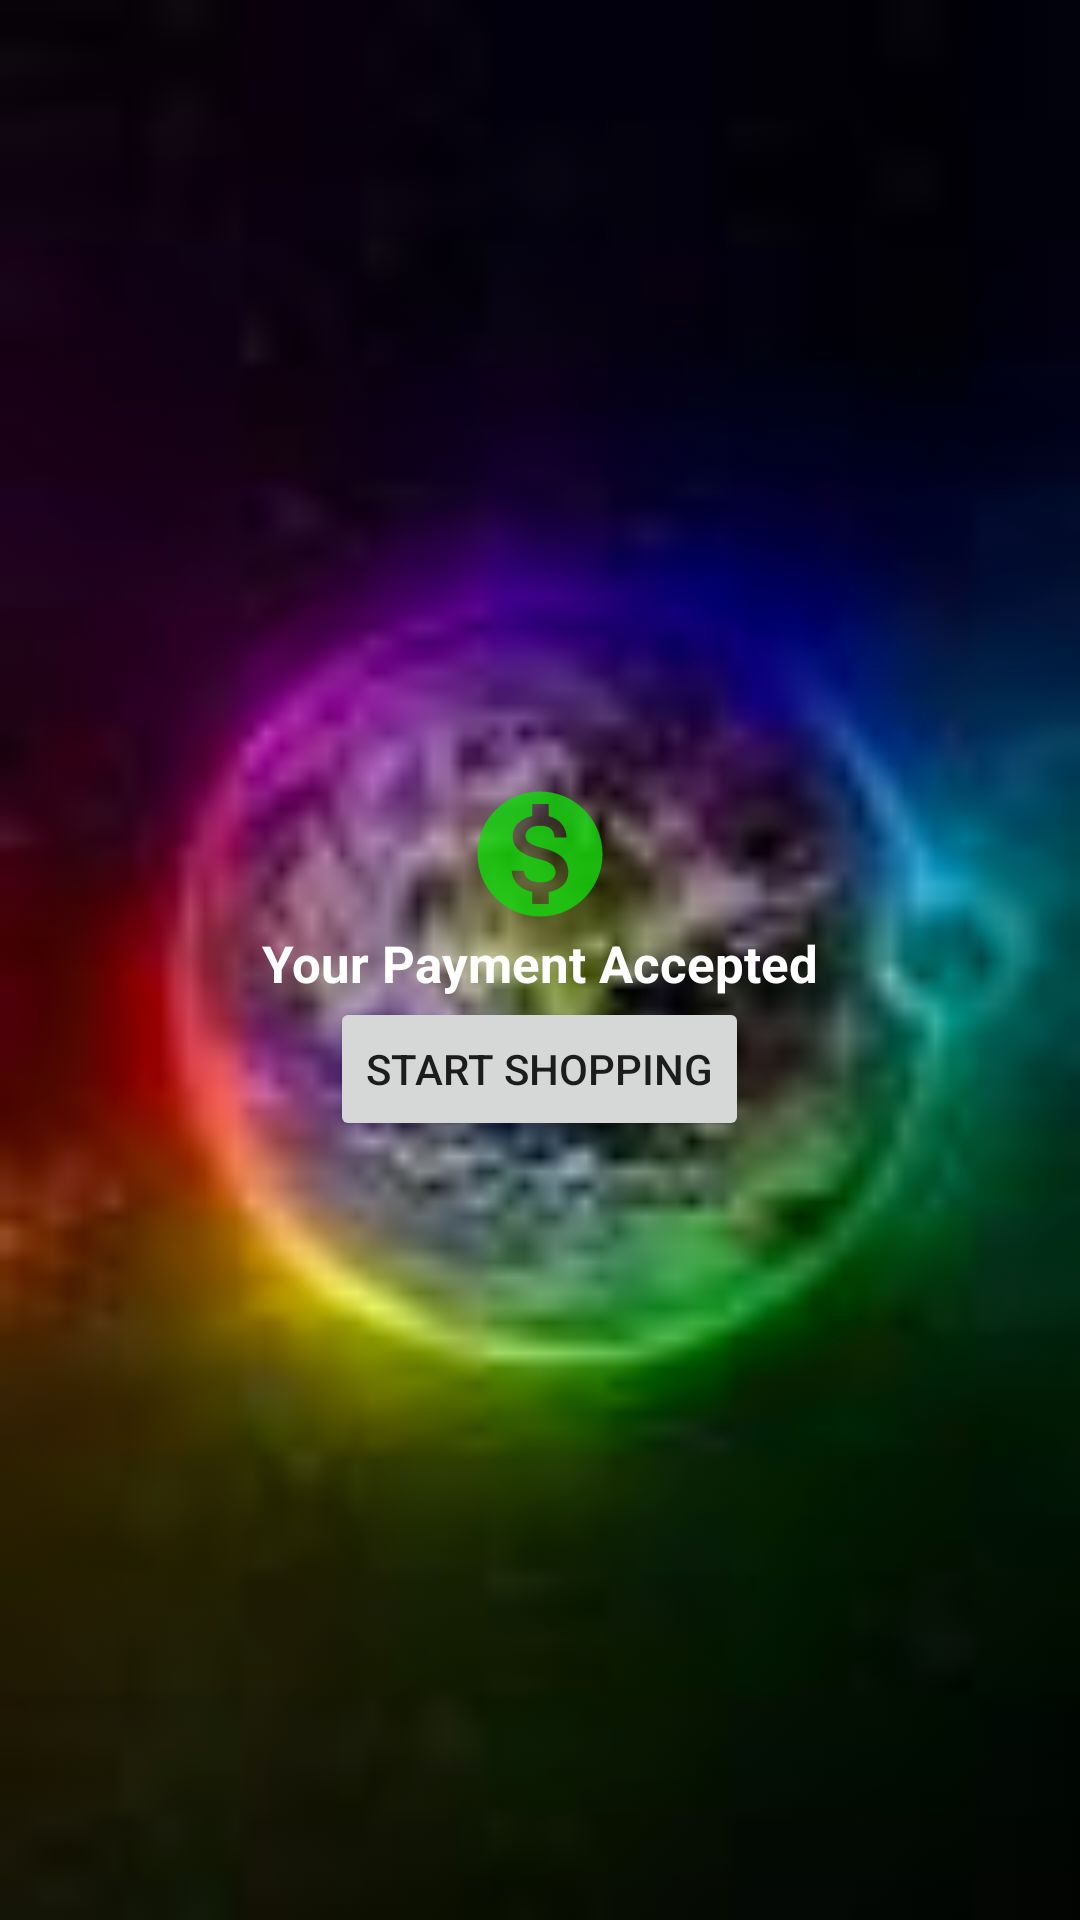

Icon click points for this 1080 × 1920 phone screenshot, format (x,y):
money: (540,854)
